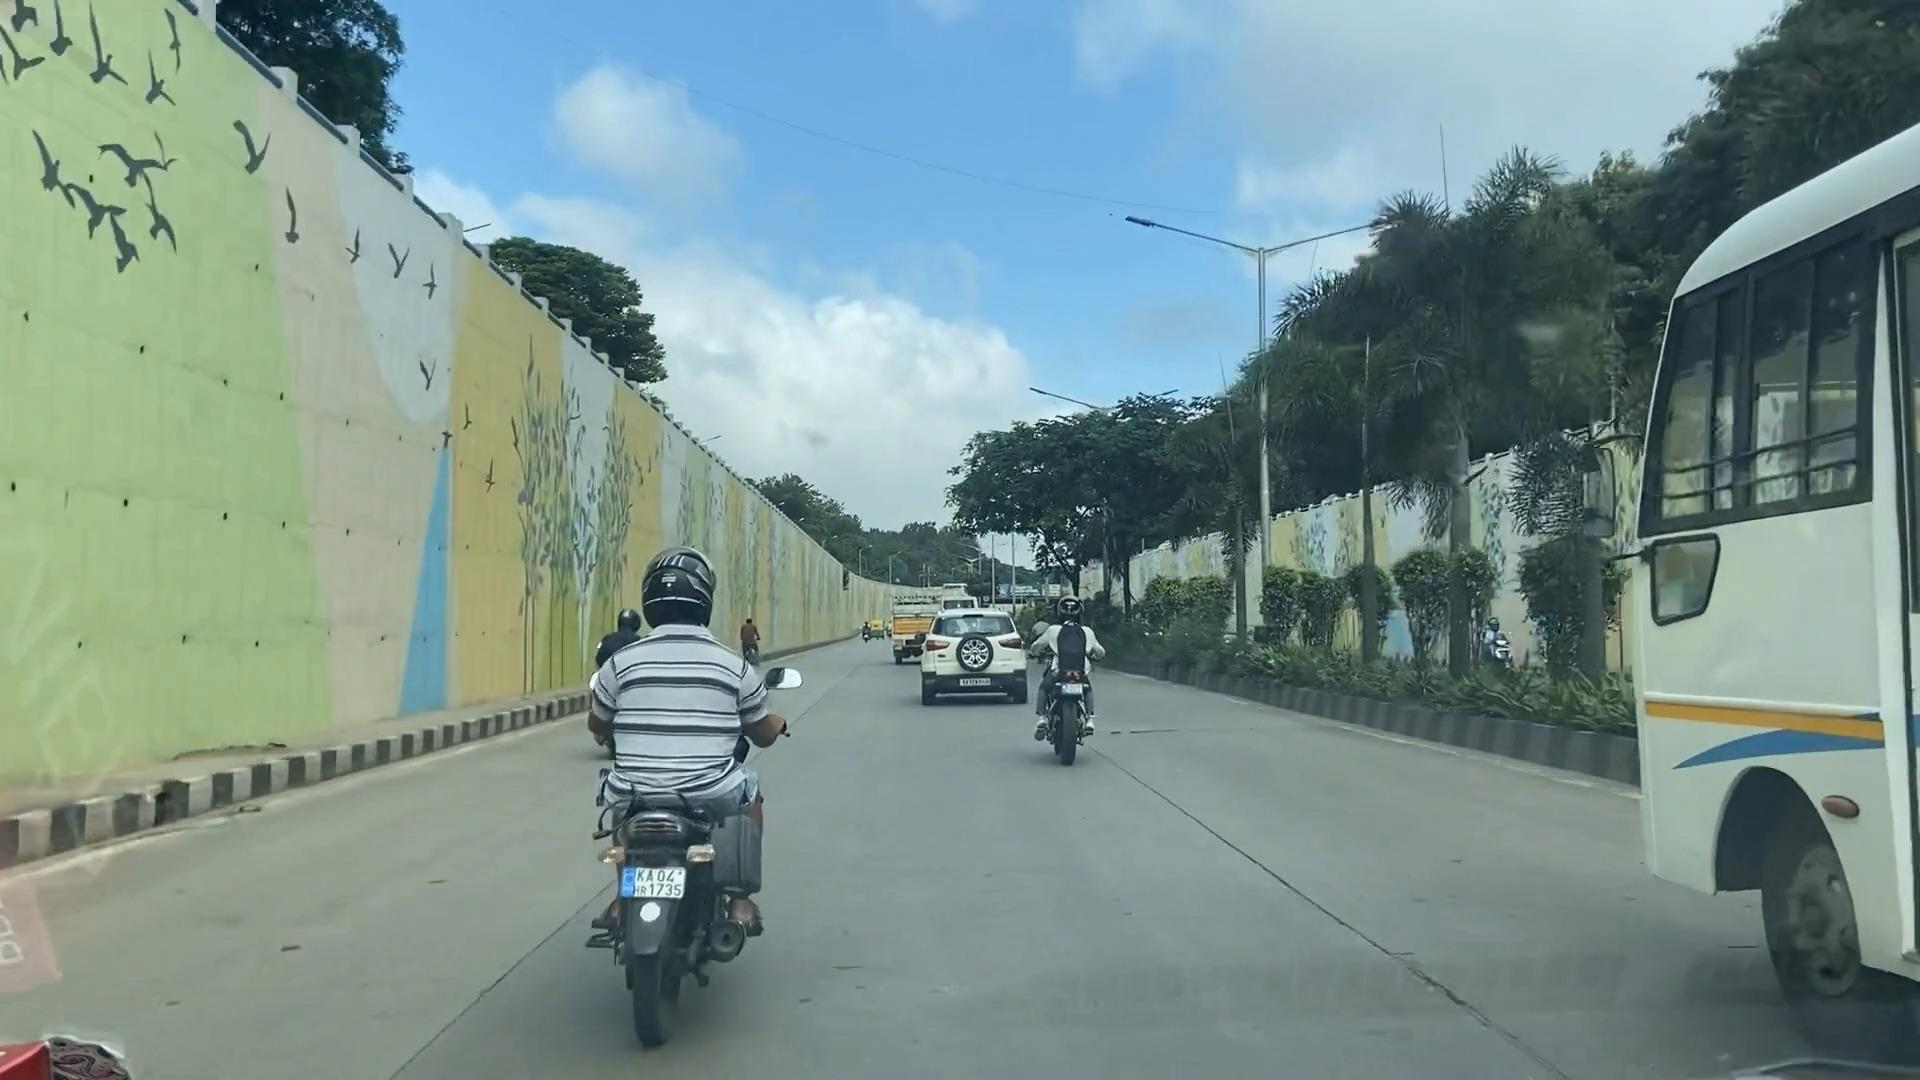LMV: (612, 546, 766, 1019), (920, 611, 1018, 709), (1048, 599, 1093, 764)
